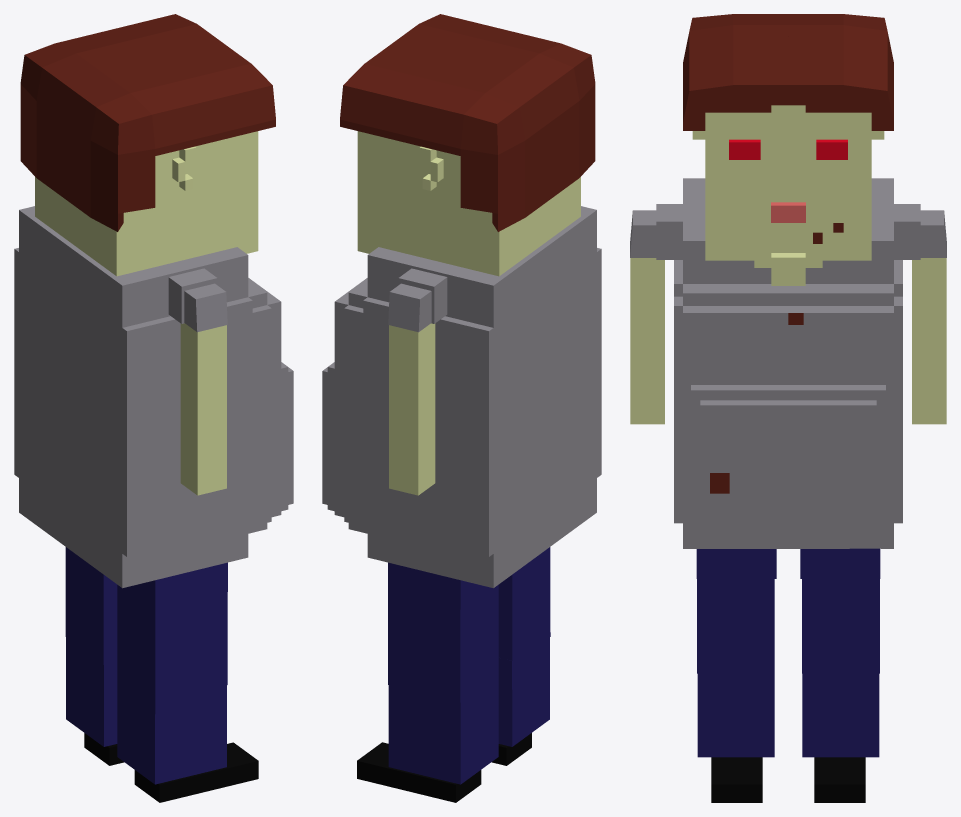
The model's file is Fat_Guy.fbx.
3 renders of one model, left to right at view 1: azimuth 30°, elevation 25°; view 2: azimuth 150°, elevation 25°; view 3: azimuth 270°, elevation 25°, orthographic.
Parts seen in each view (by area): view 1: Character, head.001, head, Cube.001, Cube.007, Cube.010, Cube.004, Cube.005, Cube.008, RightLeg, Cube.009, RightArm (+1 smaller); view 2: Character, head.001, head, Cube.004, Cube.005, Cube.003, Cube.001, Cube.007, Cube.006, LeftLeg, Cube.002, LeftArm (+1 smaller); view 3: Character, head, head.001, Cube.004, Cube.001, Cube.005, Cube.007, Cube.003, Cube.010, LeftLeg, RightLeg, Cube.006 (+5 smaller).
Boxes of the visible parts, x1,y1,x2,y2 form: Character: [14, 206, 293, 588]; head.001: [20, 14, 275, 231]; head: [35, 131, 258, 276]; Cube.001: [117, 585, 227, 702]; Cube.007: [117, 675, 226, 784]; Cube.010: [180, 323, 226, 495]; Cube.004: [65, 547, 117, 664]; Cube.005: [66, 637, 117, 746]; Cube.008: [134, 742, 258, 802]; RightLeg: [125, 562, 227, 609]; Cube.009: [184, 283, 227, 332]; RightArm: [168, 268, 217, 323]; Character: [322, 206, 601, 588]; head.001: [340, 14, 595, 231]; head: [357, 131, 580, 276]; Cube.004: [388, 585, 498, 702]; Cube.005: [388, 675, 498, 784]; Cube.003: [389, 323, 435, 495]; Cube.001: [498, 547, 550, 664]; Cube.007: [498, 637, 549, 746]; Cube.006: [357, 742, 481, 802]; LeftLeg: [388, 562, 490, 609]; Cube.002: [388, 283, 431, 332]; LeftArm: [398, 268, 447, 323]; Character: [674, 178, 902, 548]; head: [692, 105, 884, 285]; head.001: [683, 14, 893, 130]; Cube.004: [802, 579, 879, 673]; Cube.001: [697, 579, 774, 673]; Cube.005: [802, 673, 879, 757]; Cube.007: [697, 673, 774, 757]; Cube.003: [912, 258, 946, 424]; Cube.010: [630, 258, 664, 424]; LeftLeg: [800, 548, 880, 578]; RightLeg: [696, 549, 776, 578]; Cube.006: [814, 757, 865, 802].
Size of the model in its own units: 208 by 753 by 301.
